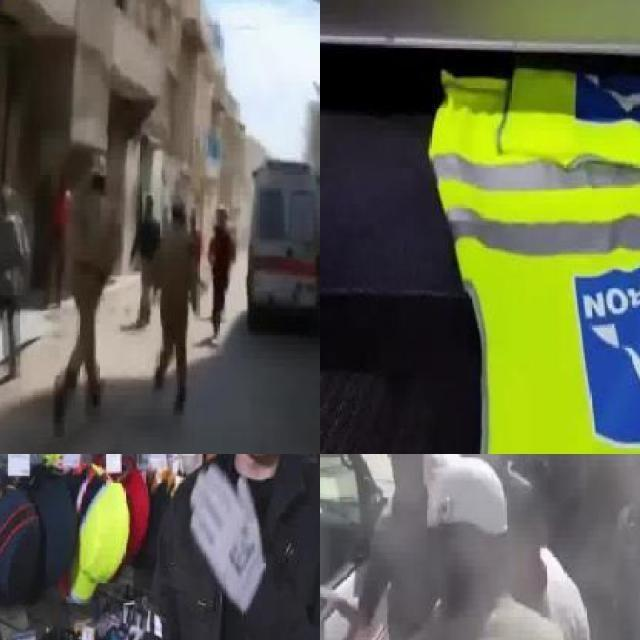apron: (184, 462, 266, 616)
